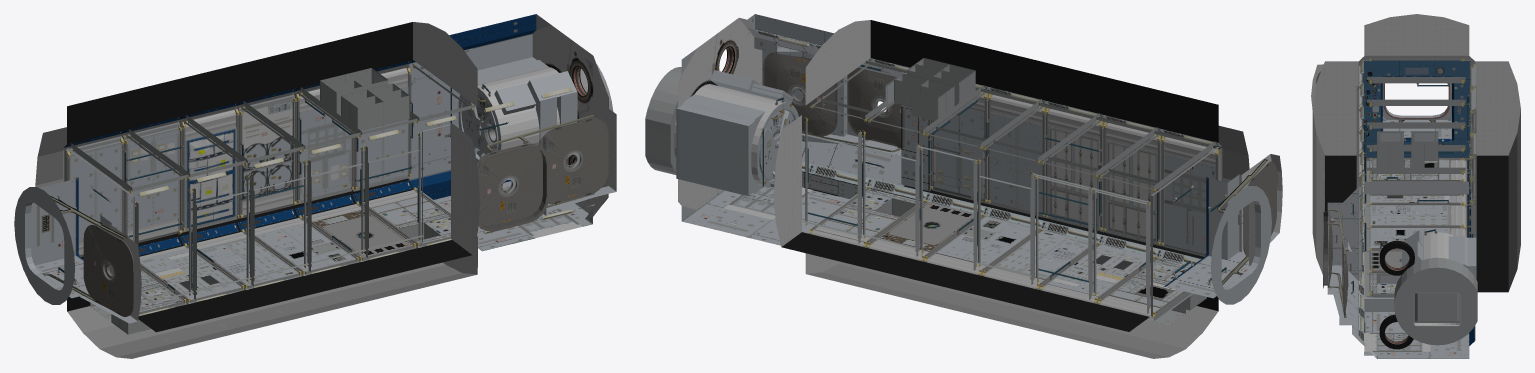
The model's file is kibo.glb.
The picture shows the model from 3 angles, left to right: view 1: azimuth 30°, elevation 25°; view 2: azimuth 150°, elevation 25°; view 3: azimuth 270°, elevation 25°; orthographic projection. The views are drawn at different scales.
Visible parts, largest first — view 1: JPM_Bulkhead-material, JPM_Racks_01-material, JPM_Racks_02-material, Generic_HubAndMetals-material, JPM_Racks_03-material, EXPRESS_Racks_ATLAS-material, Generic_Metals-material, NewRacks59_60-material, Generic_Lights-material; view 2: JPM_Bulkhead-material, JPM_Racks_01-material, Generic_HubAndMetals-material, JPM_Racks_03-material, EXPRESS_Racks_ATLAS-material, JPM_Racks_02-material, Generic_Metals-material, NewRacks59_60-material, Generic_Lights-material; view 3: JPM_Bulkhead-material, JPM_Racks_01-material, Generic_HubAndMetals-material, EXPRESS_Racks_ATLAS-material, JPM_Racks_03-material, Generic_Lights-material, NewRacks59_60-material, Generic_Metals-material, JPM_Racks_02-material, Patches1-material.
Boxes of the visible parts, x1=… form: JPM_Bulkhead-material: x1=14, y1=14, x2=616, y2=358; JPM_Racks_01-material: x1=63, y1=57, x2=613, y2=319; JPM_Racks_02-material: x1=70, y1=86, x2=471, y2=294; Generic_HubAndMetals-material: x1=42, y1=68, x2=608, y2=316; JPM_Racks_03-material: x1=139, y1=149, x2=450, y2=314; EXPRESS_Racks_ATLAS-material: x1=90, y1=68, x2=450, y2=334; Generic_Metals-material: x1=476, y1=143, x2=542, y2=226; NewRacks59_60-material: x1=313, y1=209, x2=413, y2=257; Generic_Lights-material: x1=139, y1=87, x2=572, y2=315; JPM_Bulkhead-material: x1=678, y1=14, x2=1282, y2=358; JPM_Racks_01-material: x1=645, y1=61, x2=1222, y2=321; Generic_HubAndMetals-material: x1=760, y1=52, x2=1277, y2=312; JPM_Racks_03-material: x1=814, y1=105, x2=1160, y2=307; EXPRESS_Racks_ATLAS-material: x1=821, y1=58, x2=1206, y2=325; JPM_Racks_02-material: x1=806, y1=98, x2=1159, y2=294; Generic_Metals-material: x1=847, y1=68, x2=901, y2=147; NewRacks59_60-material: x1=879, y1=202, x2=973, y2=251; Generic_Lights-material: x1=778, y1=36, x2=1212, y2=264; JPM_Bulkhead-material: x1=1311, y1=14, x2=1520, y2=358; JPM_Racks_01-material: x1=1356, y1=58, x2=1477, y2=345; Generic_HubAndMetals-material: x1=1316, y1=60, x2=1475, y2=317; EXPRESS_Racks_ATLAS-material: x1=1369, y1=131, x2=1450, y2=293; JPM_Racks_03-material: x1=1369, y1=195, x2=1456, y2=247; Generic_Lights-material: x1=1360, y1=60, x2=1363, y2=329; NewRacks59_60-material: x1=1369, y1=250, x2=1402, y2=270; Generic_Metals-material: x1=1328, y1=211, x2=1337, y2=287; JPM_Racks_02-material: x1=1469, y1=68, x2=1473, y2=200; Patches1-material: x1=1365, y1=71, x2=1379, y2=153.
Bounding box in the file's own units: 10.33 × 4.15 × 4.18.
9 materials, 9 textured.
